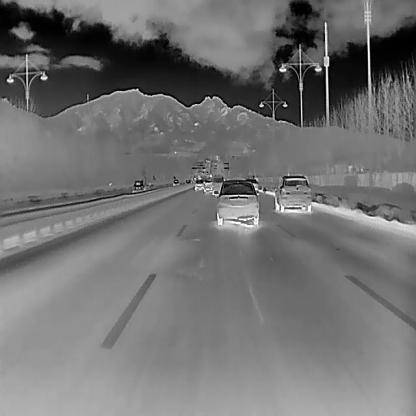car: (216, 179, 258, 226), (273, 175, 311, 211), (211, 174, 223, 196), (245, 177, 258, 193), (131, 180, 145, 192), (204, 178, 212, 192), (194, 179, 204, 190), (171, 178, 179, 186), (183, 177, 191, 185)
